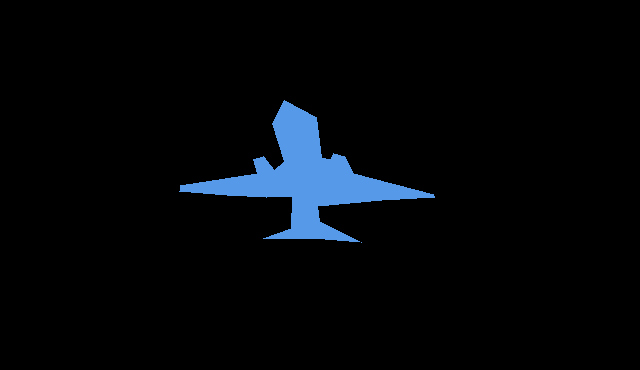Airplane: (179, 100, 435, 242)
